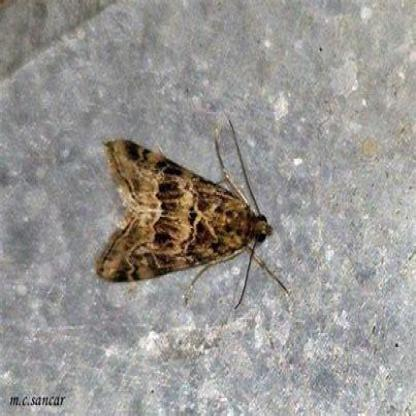Hellula undalis: (90, 115, 305, 316)
